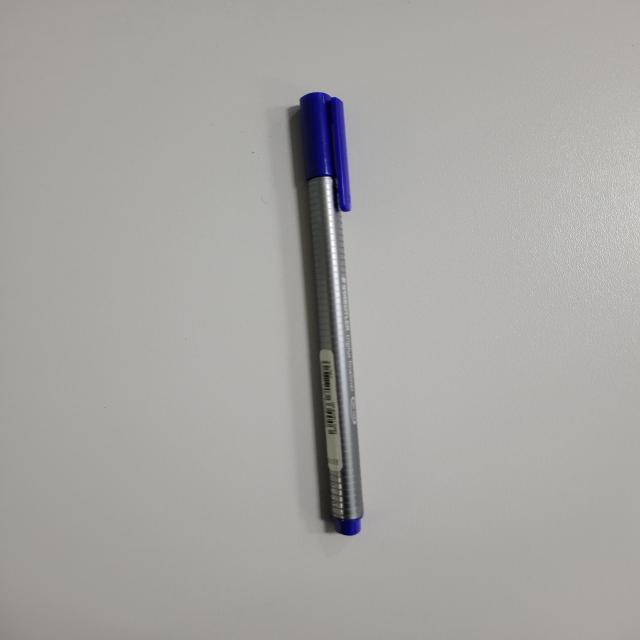caneta: (278, 85, 383, 541)
